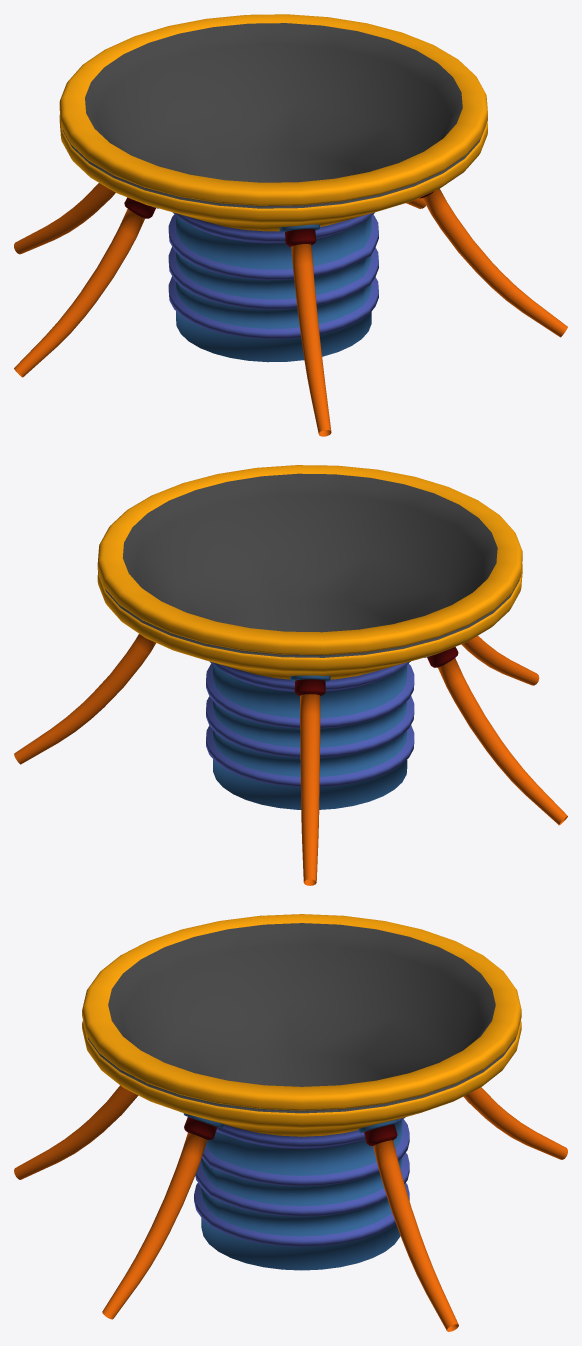
The model's file is Funnel.fbx.
3 renders of one model, top to bottom at view 1: azimuth 30°, elevation 25°; view 2: azimuth 150°, elevation 25°; view 3: azimuth 270°, elevation 25°, orthographic. The views are drawn at different scales.
Visible parts, largest first — view 1: Funnel; view 2: Funnel; view 3: Funnel.
Boxes of the visible parts, bbox=[...] form: Funnel: bbox=[14, 14, 567, 436]; Funnel: bbox=[14, 465, 567, 885]; Funnel: bbox=[14, 914, 567, 1331].
Size of the model in its own units: 1864 by 802 by 1806.
